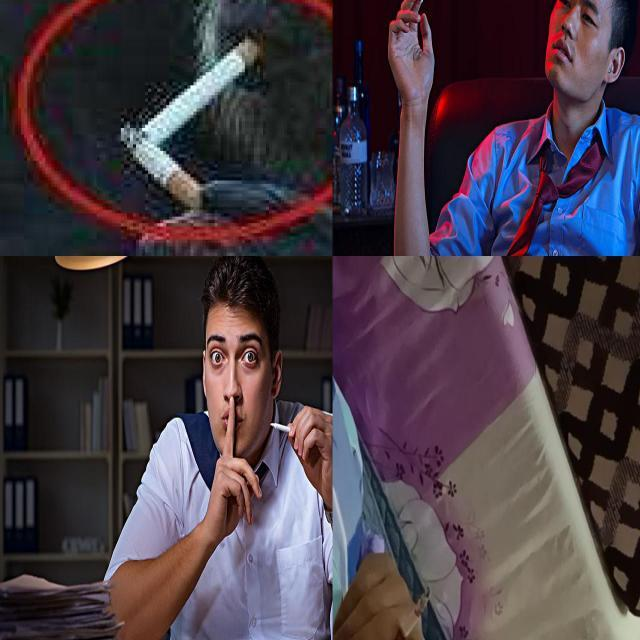cigarette: (138, 34, 268, 146), (119, 123, 207, 210), (391, 586, 432, 640), (268, 423, 298, 437)
